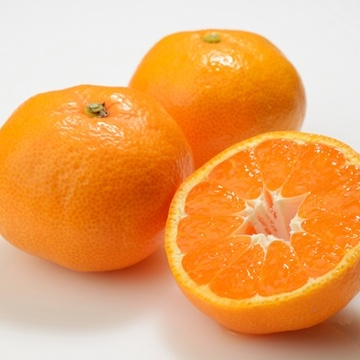mandarin: (164, 129, 360, 334), (1, 84, 195, 272), (129, 30, 307, 169)
